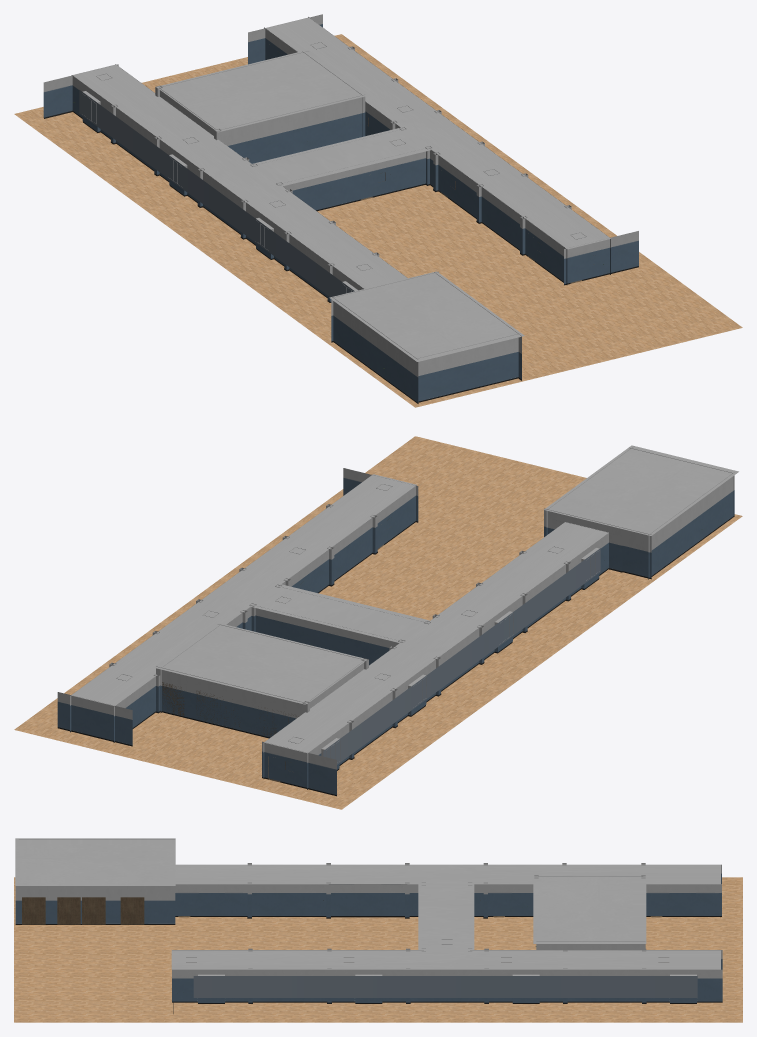
File: SchoolFinal2.fbx
The picture shows the model from 3 angles, top to bottom: view 1: azimuth 30°, elevation 25°; view 2: azimuth 150°, elevation 25°; view 3: azimuth 270°, elevation 25°; orthographic projection. The views are drawn at different scales.
Visible parts, largest first — view 1: School, Potolok; view 2: School, Potolok; view 3: School, Potolok.
Boxes of the visible parts, x1,y1,x2,y2 form: School: [14, 14, 742, 407]; Potolok: [72, 17, 610, 361]; School: [14, 436, 742, 809]; Potolok: [71, 445, 738, 753]; School: [14, 839, 742, 1022]; Potolok: [15, 838, 720, 969].
Size of the model in its own units: 80.34 by 10.81 by 170.
